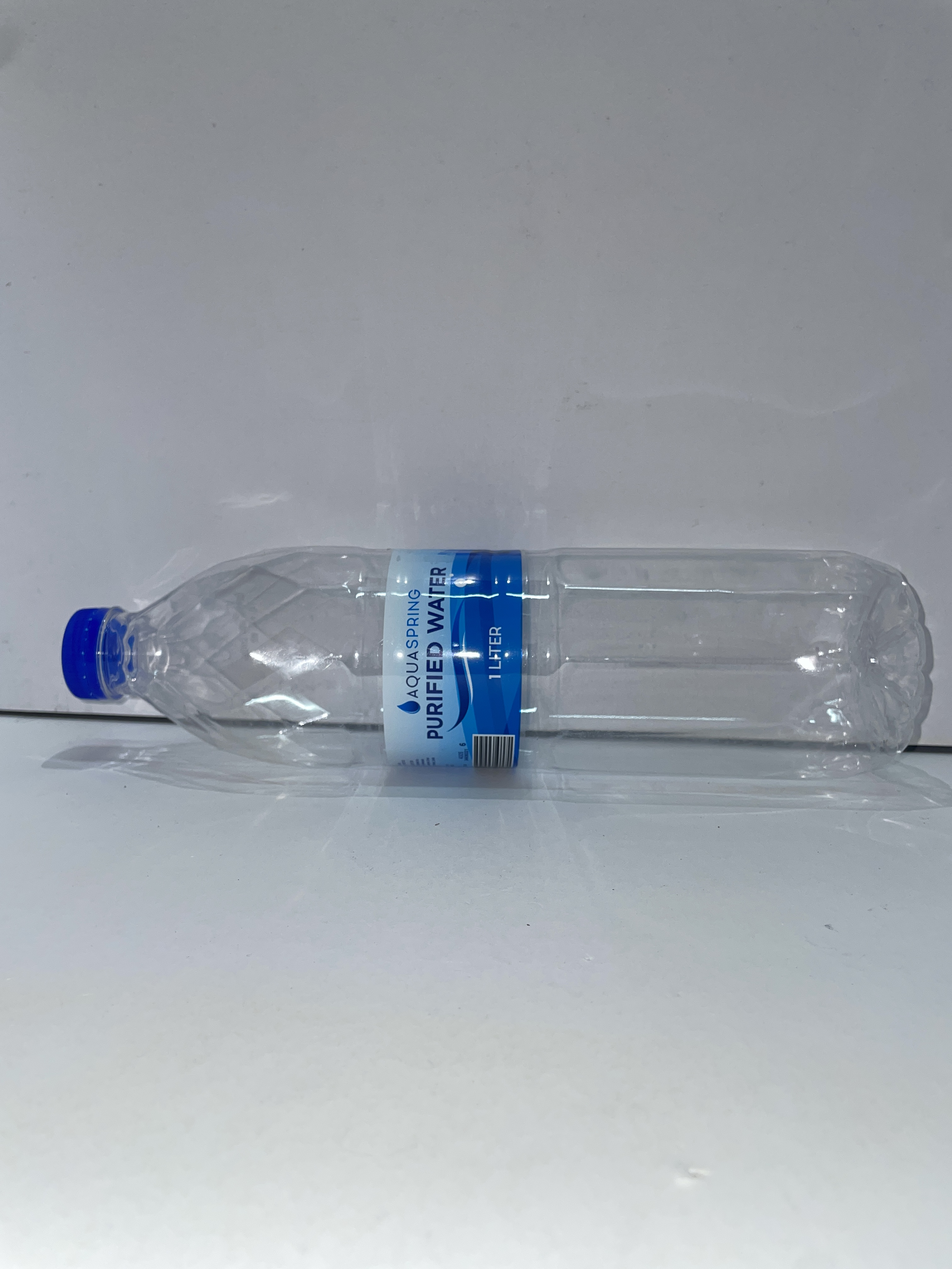aquaspring 1000ml: (62, 547, 927, 777)
